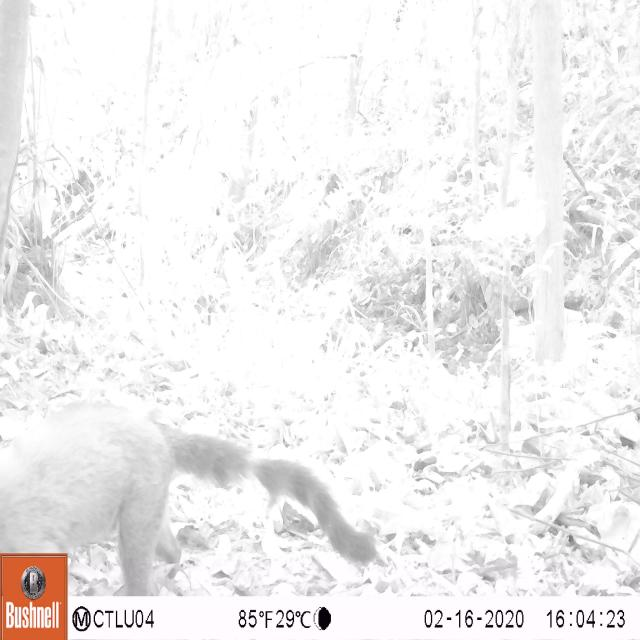South American Coati: (0, 378, 385, 590)
